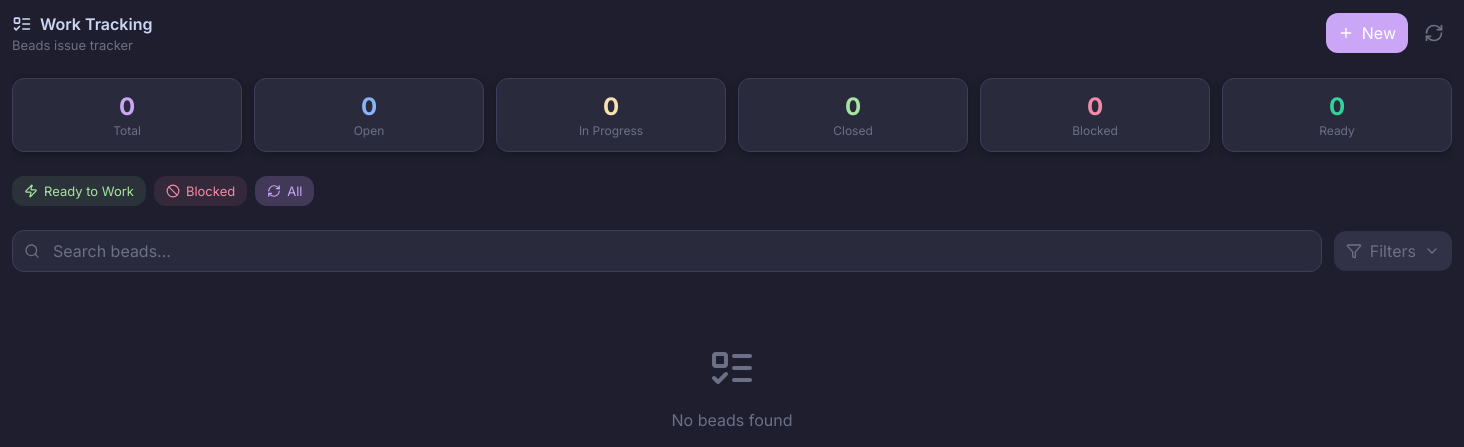
Test: BeadsPanel › shows empty message when filters match nothing
This screenshot has width=1464, height=447.
# Enter a search that matches nothing
Type "nonexistent" into the field with placeholder "Search beads..." at (667, 251), box [12,230,1322,272]
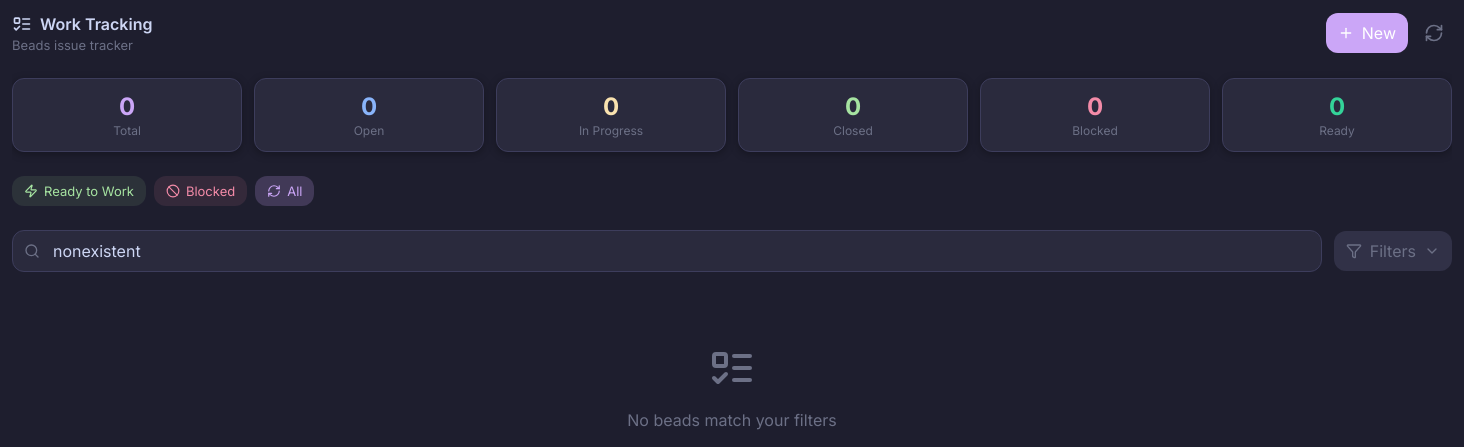
Expected: the text "No beads match your filters" is shown, [627,410,837,430]
